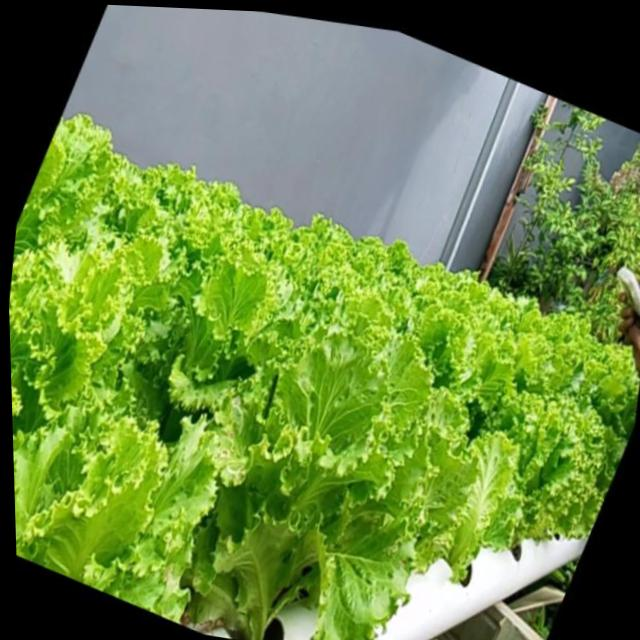Mature: (9, 111, 629, 640), (166, 338, 404, 640), (425, 352, 614, 557)
